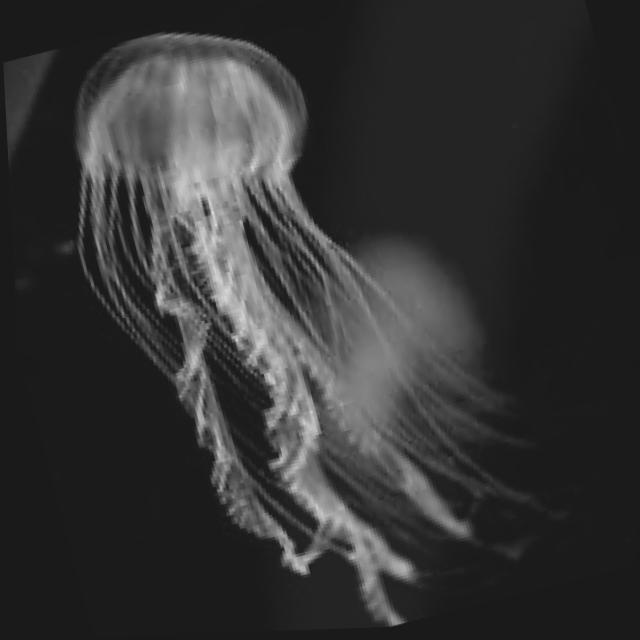Box-jellyfish: (22, 0, 584, 639)
